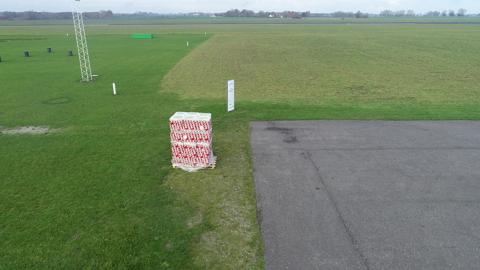RockwoolPallet: (169, 112, 214, 170)
